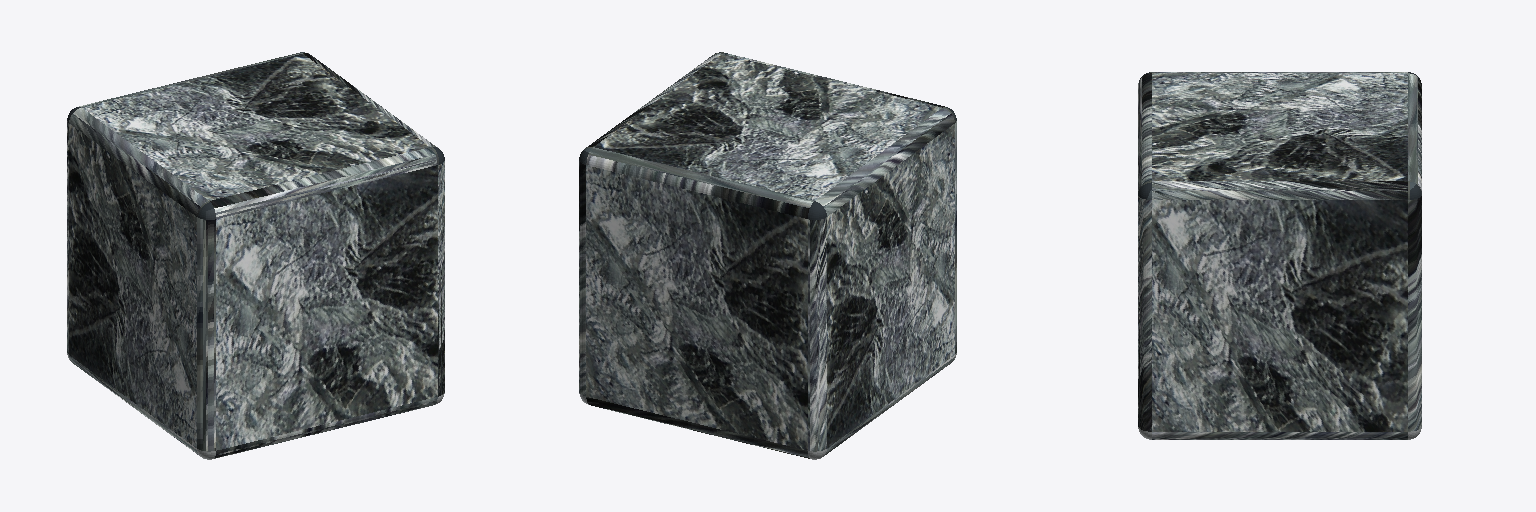
3 renders of one model, left to right at view 1: azimuth 30°, elevation 25°; view 2: azimuth 150°, elevation 25°; view 3: azimuth 270°, elevation 25°, orthographic.
Parts seen in each view (by area): view 1: Cube; view 2: Cube; view 3: Cube.
Part boxes in pixels (bbox=[...]): Cube: bbox=[67, 52, 444, 459]; Cube: bbox=[579, 52, 956, 459]; Cube: bbox=[1138, 72, 1421, 439].
Size of the model in its own units: 2 by 2 by 2.
Materials: 1 (1 with a texture image).